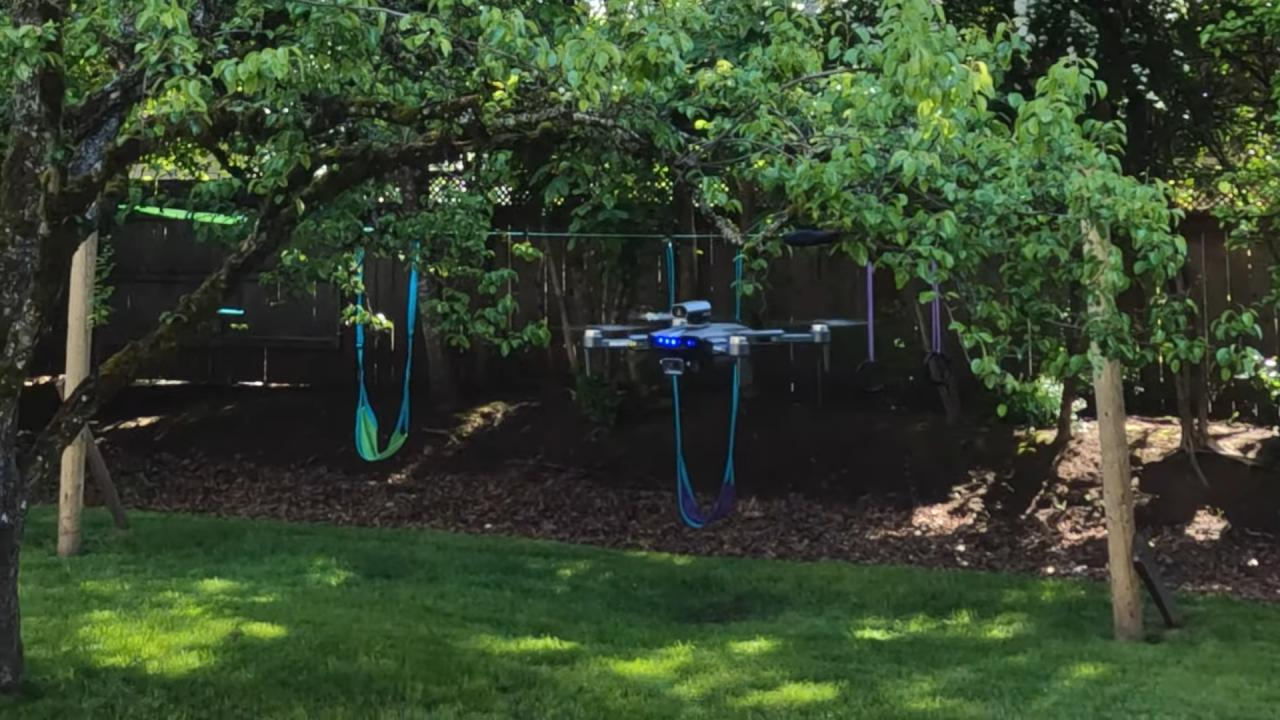Drone: (534, 289, 876, 385)
